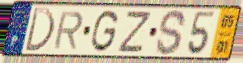5: (186, 9, 216, 57)
D: (23, 6, 56, 54)
G: (89, 8, 120, 54)
R: (51, 10, 85, 51)
S: (154, 8, 188, 57)
Z: (116, 10, 154, 54)
